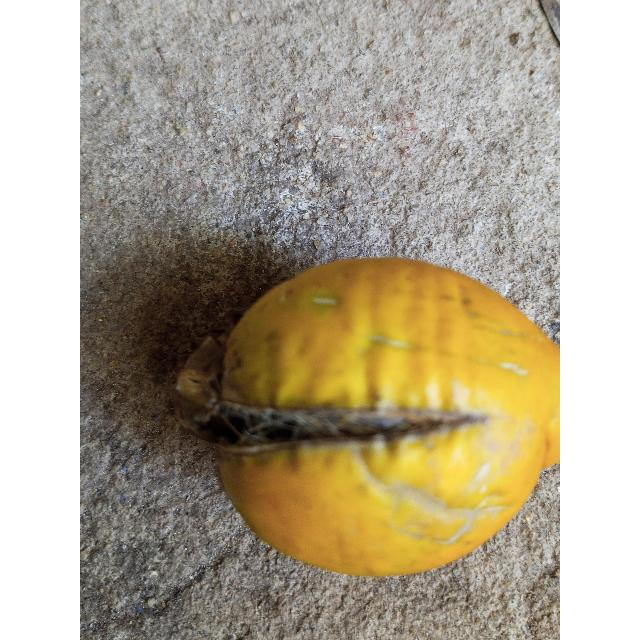damaged: (176, 258, 560, 576)
